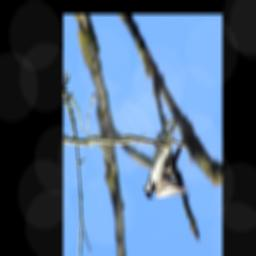Swallow: (143, 112, 189, 201)
